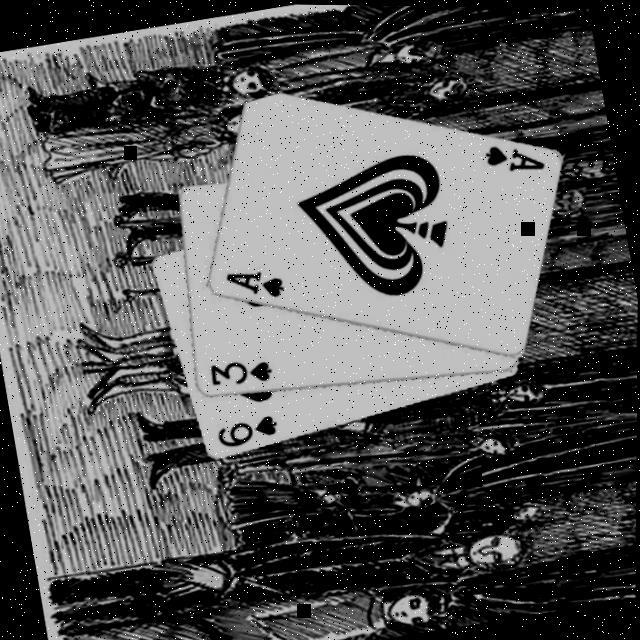3S: (205, 349, 276, 392)
6S: (212, 408, 284, 452)
AS: (479, 130, 549, 180), (222, 259, 289, 306)
